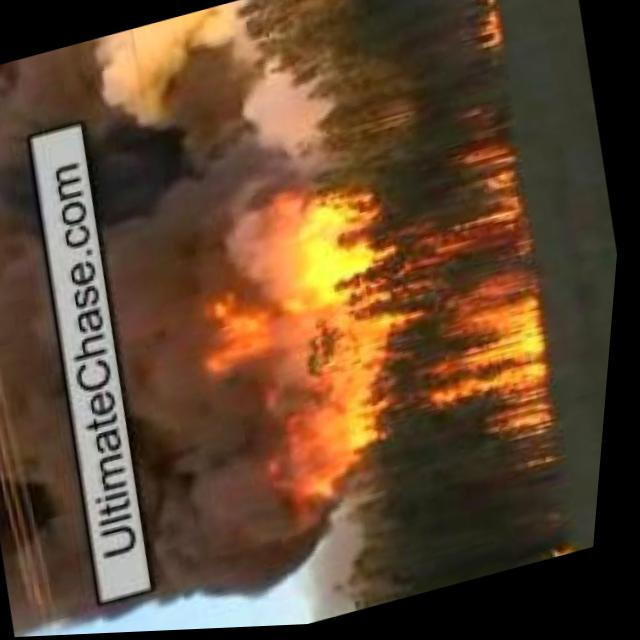Fire: (176, 155, 575, 516), (465, 0, 512, 53), (555, 543, 586, 564)
